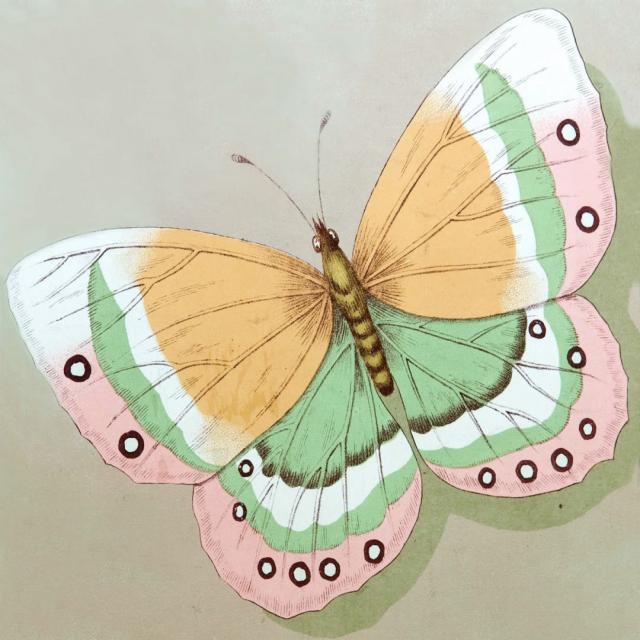butterfly: (7, 9, 628, 617)
